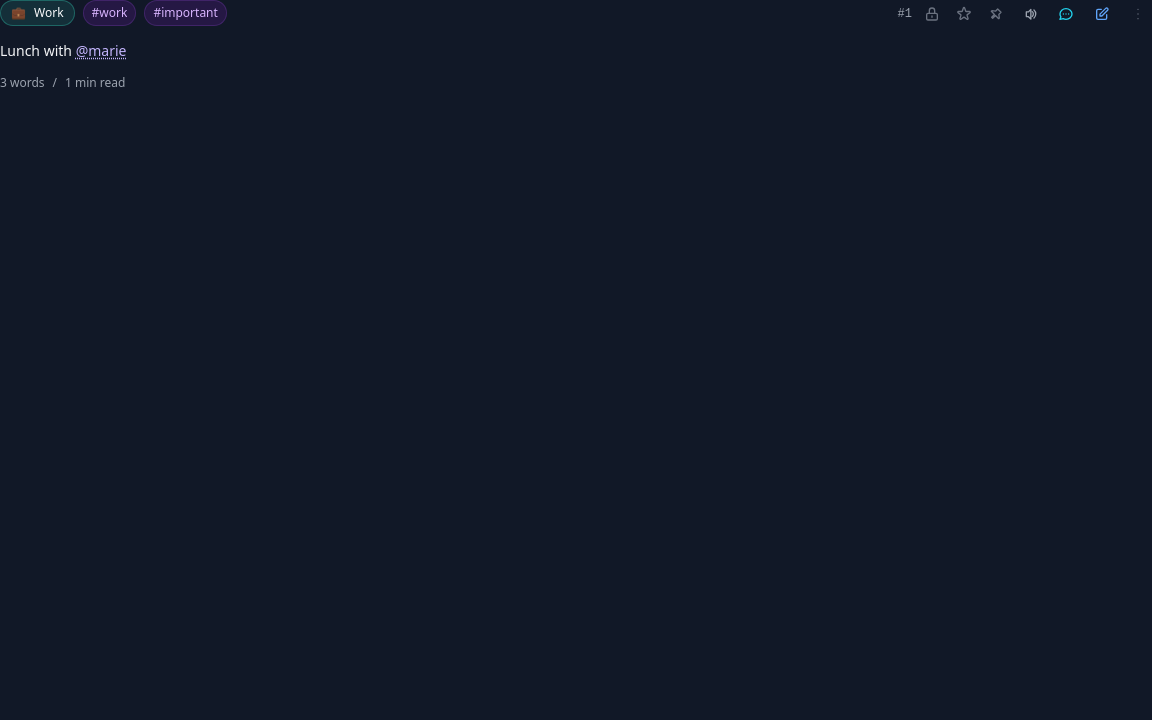
EntryViewMode private share links › makes no link when the check is cancelled
The width and height of the screenshot is (1152, 720).
Click the button named "More actions": (1138, 14) [1124,0,1151,28]
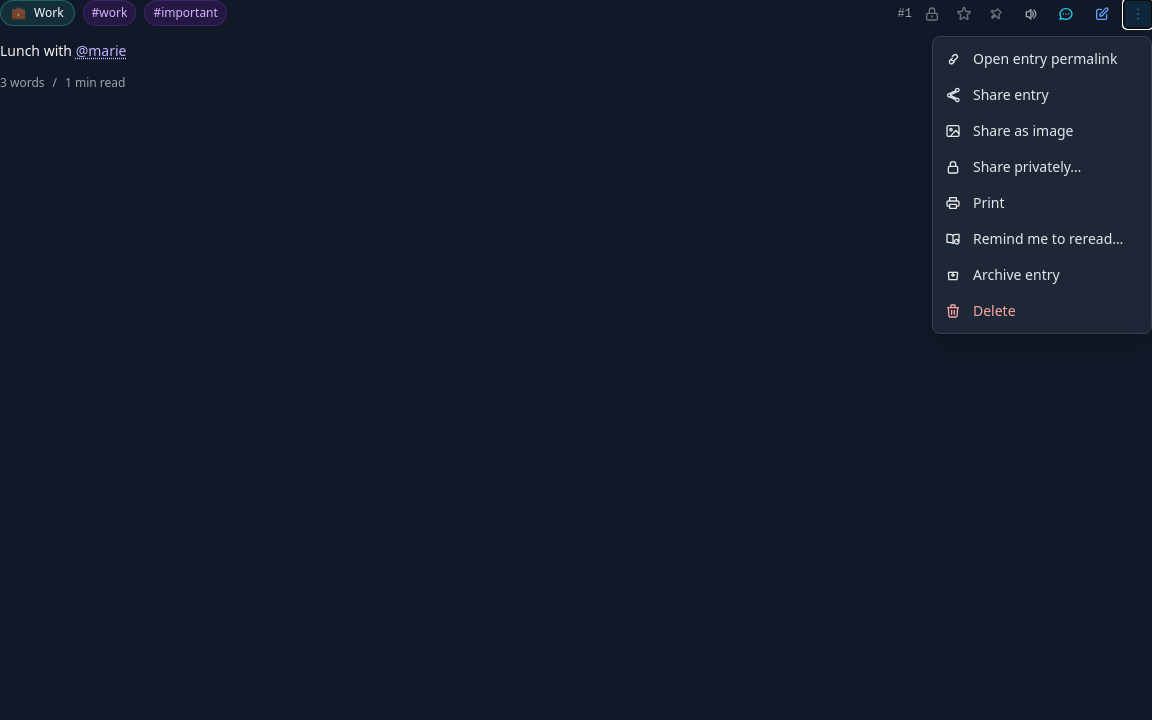
Click the menu item "Share privately…": (1042, 167) [933,149,1151,185]
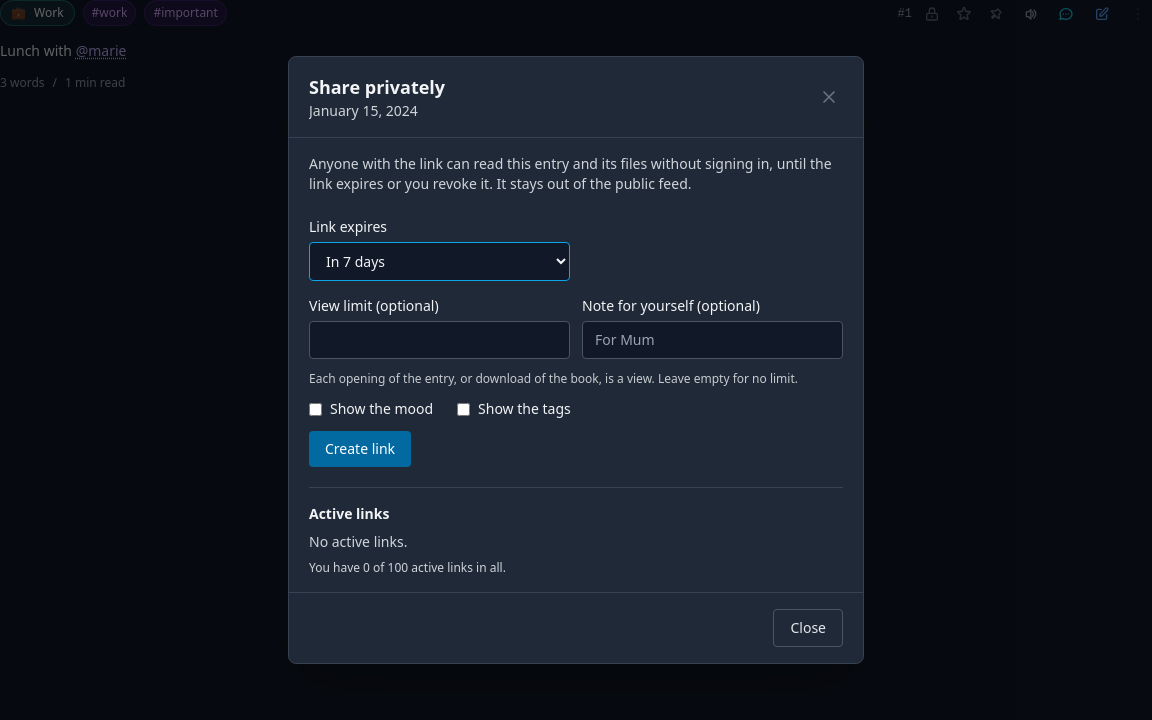
Click the button "Create link": (360, 449) [309,431,411,467]
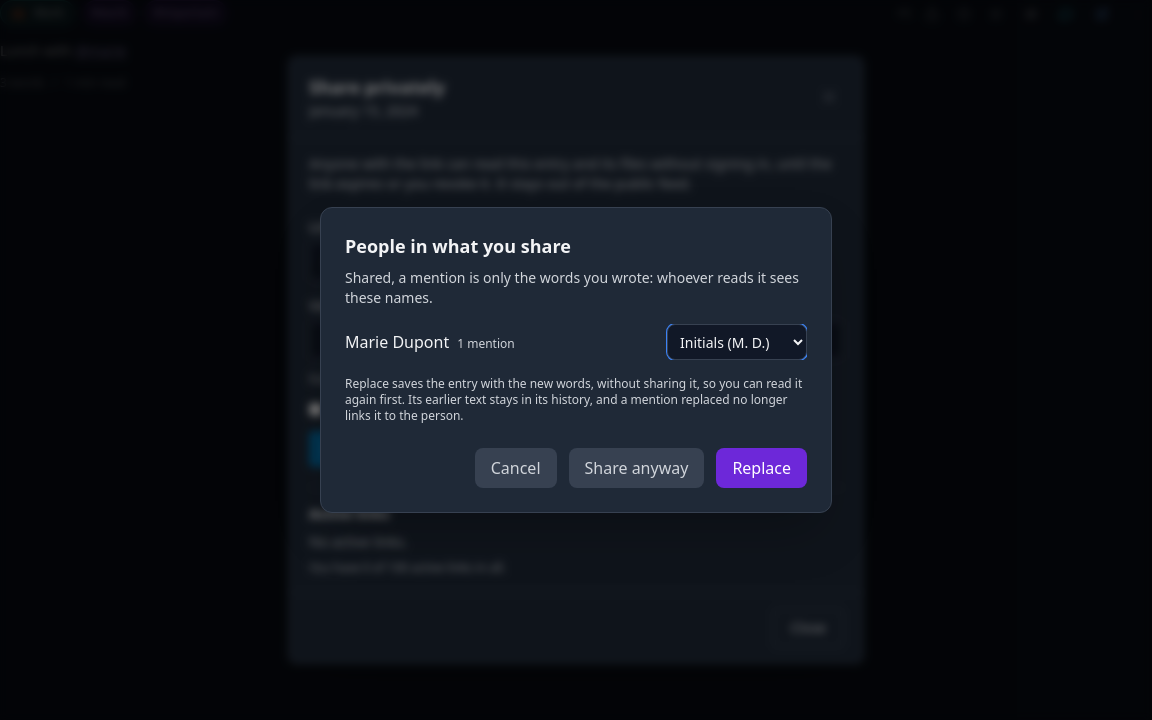
Click the button "Cancel": (516, 468) [475,448,556,488]
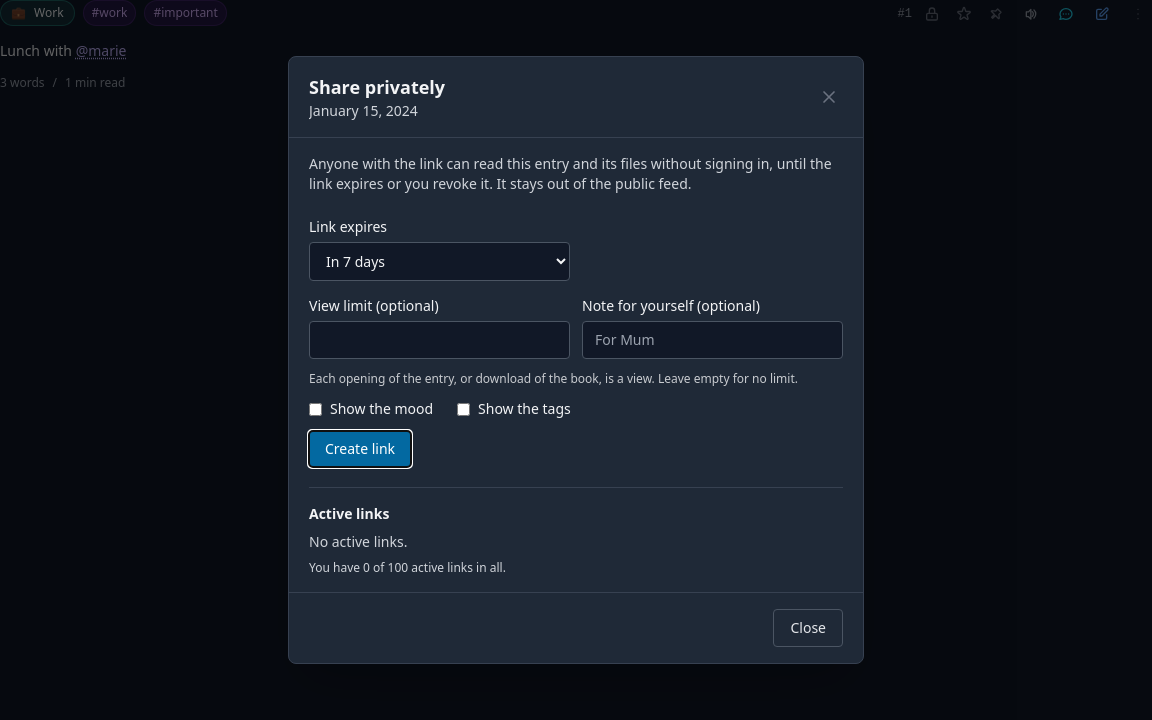
Expected: the button "Create link" is enabled, [309,431,411,467]
Expected: the heading "People in what you share" is gone
